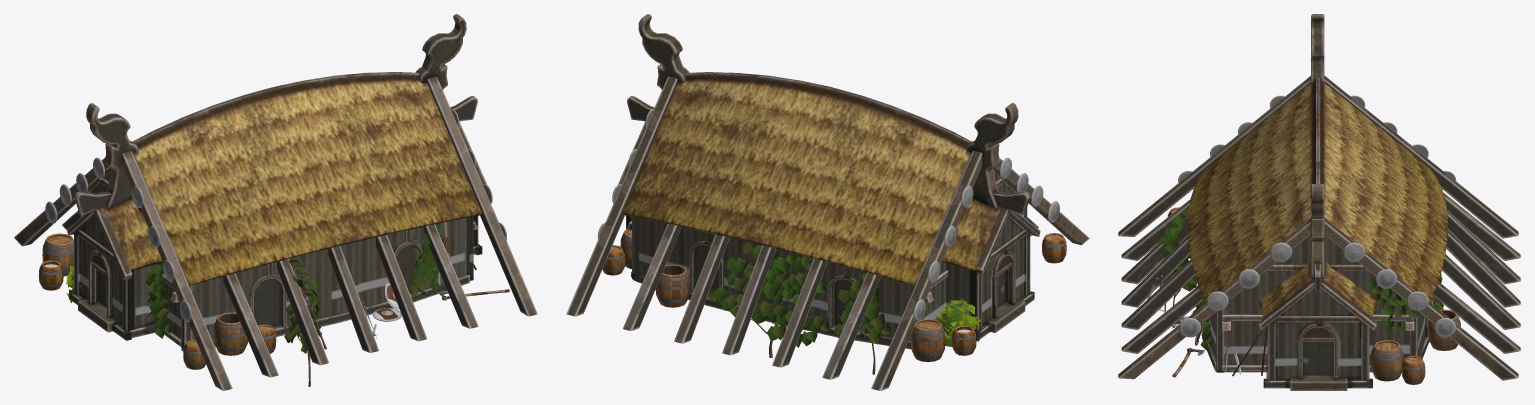
Rendered from 40-greathall.glb.
The picture shows the model from 3 angles, left to right: view 1: azimuth 30°, elevation 25°; view 2: azimuth 150°, elevation 25°; view 3: azimuth 270°, elevation 25°; orthographic projection. The views are drawn at different scales.
Bounding box in the file's own units: 11.42 × 7.07 × 10.38.
Materials: 11 (10 with a texture image).
